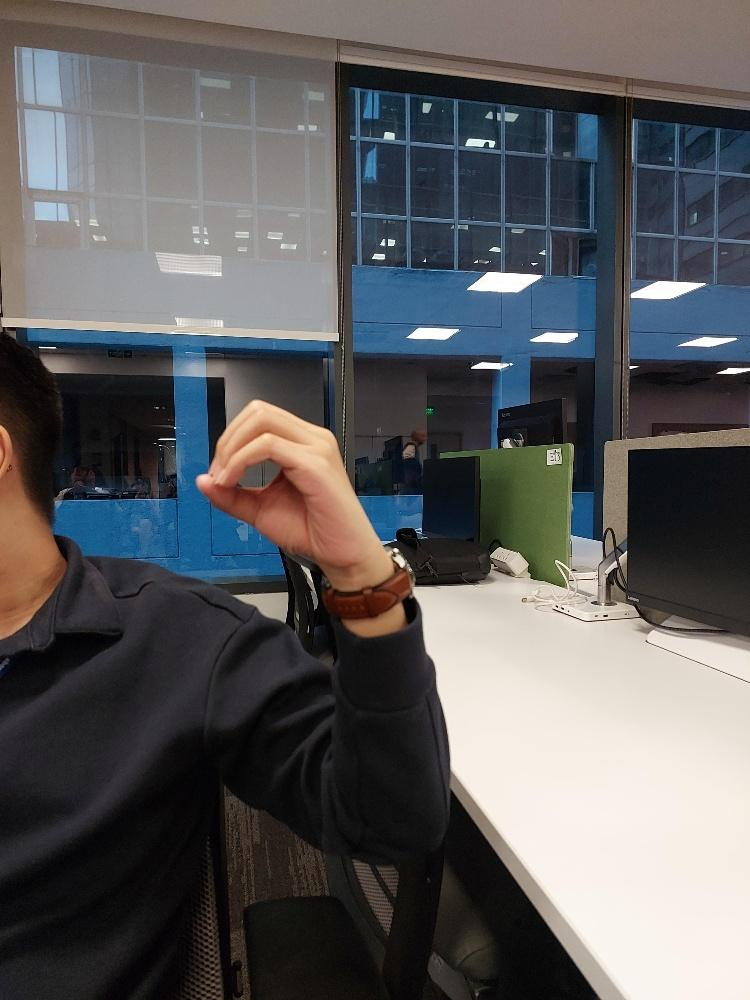o: (197, 397, 365, 563)
